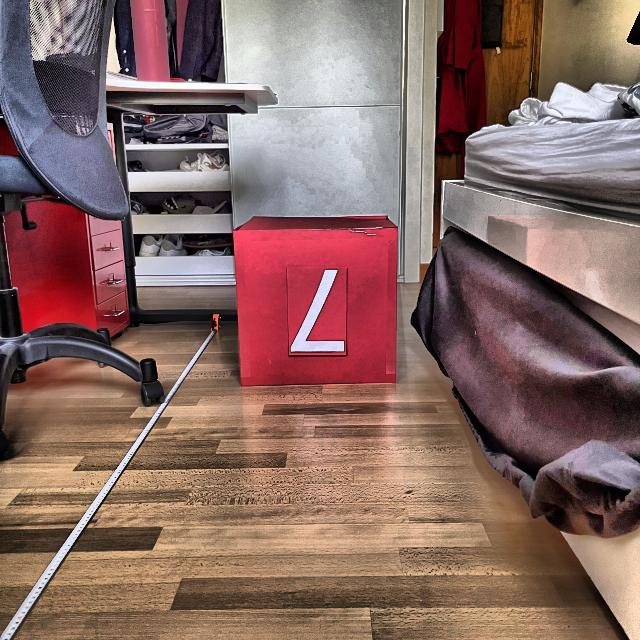red box: (233, 213, 400, 388)
seven: (290, 268, 346, 354)
